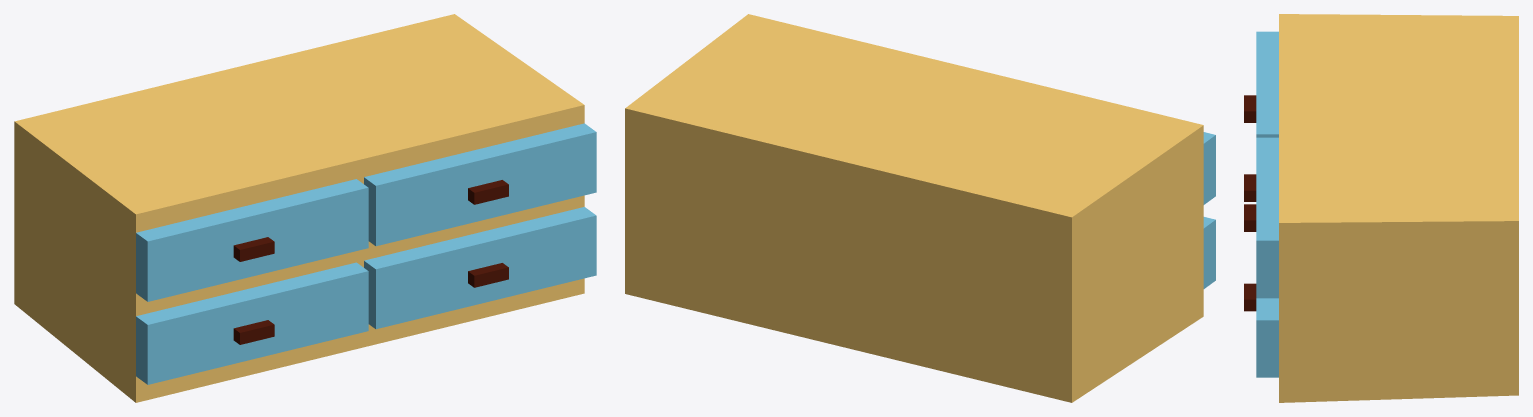
The model's file is drawer.FBX.
3 renders of one model, left to right at view 1: azimuth 30°, elevation 25°; view 2: azimuth 150°, elevation 25°; view 3: azimuth 270°, elevation 25°, orthographic. The views are drawn at different scales.
Parts seen in each view (by area): view 1: drawer; view 2: drawer; view 3: drawer.
Part boxes in pixels (box(x1,y1,x2,y2)): drawer: box(14, 14, 596, 402); drawer: box(625, 14, 1215, 402); drawer: box(1244, 14, 1518, 402).
Size of the model in its own units: 55.01 by 22.09 by 30.56.
